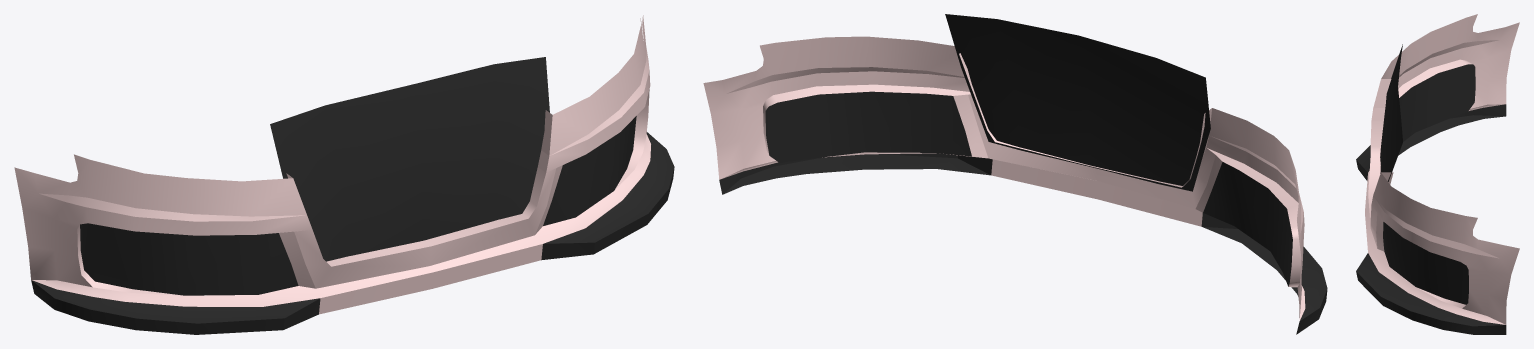
Rendered from Classic_14_Bumper_F_3.fbx.
The picture shows the model from 3 angles, left to right: view 1: azimuth 30°, elevation 25°; view 2: azimuth 150°, elevation 25°; view 3: azimuth 270°, elevation 25°; orthographic projection. The views are drawn at different scales.
Visible parts, largest first — view 1: Classic_14_Bumper_F_3; view 2: Classic_14_Bumper_F_3; view 3: Classic_14_Bumper_F_3.
Part boxes in pixels (x1=…): Classic_14_Bumper_F_3: x1=14, y1=15, x2=674, y2=334; Classic_14_Bumper_F_3: x1=703, y1=14, x2=1327, y2=334; Classic_14_Bumper_F_3: x1=1356, y1=14, x2=1519, y2=334.
Size of the model in its own units: 204 by 58.6 by 62.52.
